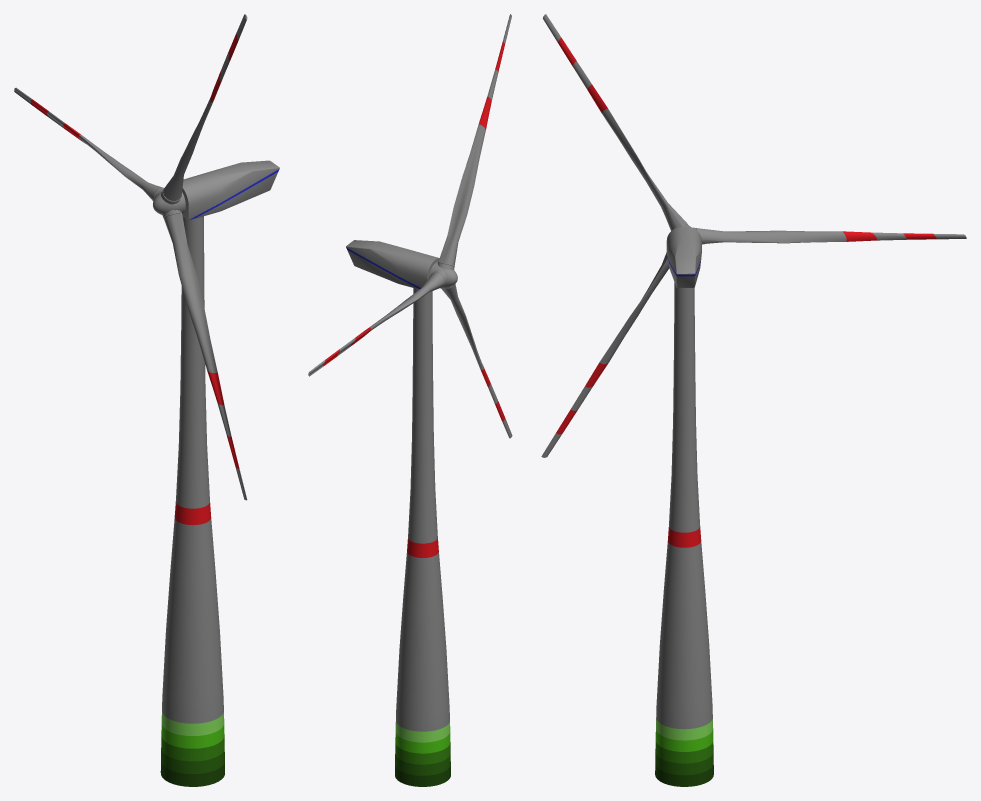
Rendered from uploads_files_2424344_Windturbine.fbx.
The picture shows the model from 3 angles, left to right: view 1: azimuth 30°, elevation 25°; view 2: azimuth 150°, elevation 25°; view 3: azimuth 270°, elevation 25°; orthographic projection. The views are drawn at different scales.
Visible parts, largest first — view 1: Stamm.001, Flügelteil.001, Generator.001; view 2: Stamm.001, Flügelteil.001, Generator.001; view 3: Stamm.001, Flügelteil.001, Generator.001.
Boxes of the visible parts, left/top/right/bottom form: Stamm.001: left=160, top=216, right=224, bottom=786; Flügelteil.001: left=14, top=14, right=247, bottom=500; Generator.001: left=182, top=160, right=279, bottom=220; Stamm.001: left=395, top=288, right=450, bottom=786; Flügelteil.001: left=308, top=14, right=512, bottom=438; Generator.001: left=346, top=240, right=439, bottom=289; Stamm.001: left=655, top=282, right=713, bottom=786; Flügelteil.001: left=541, top=14, right=966, bottom=457; Generator.001: left=666, top=227, right=701, bottom=287.
Size of the model in its own units: 1478 by 9504 by 4885.
